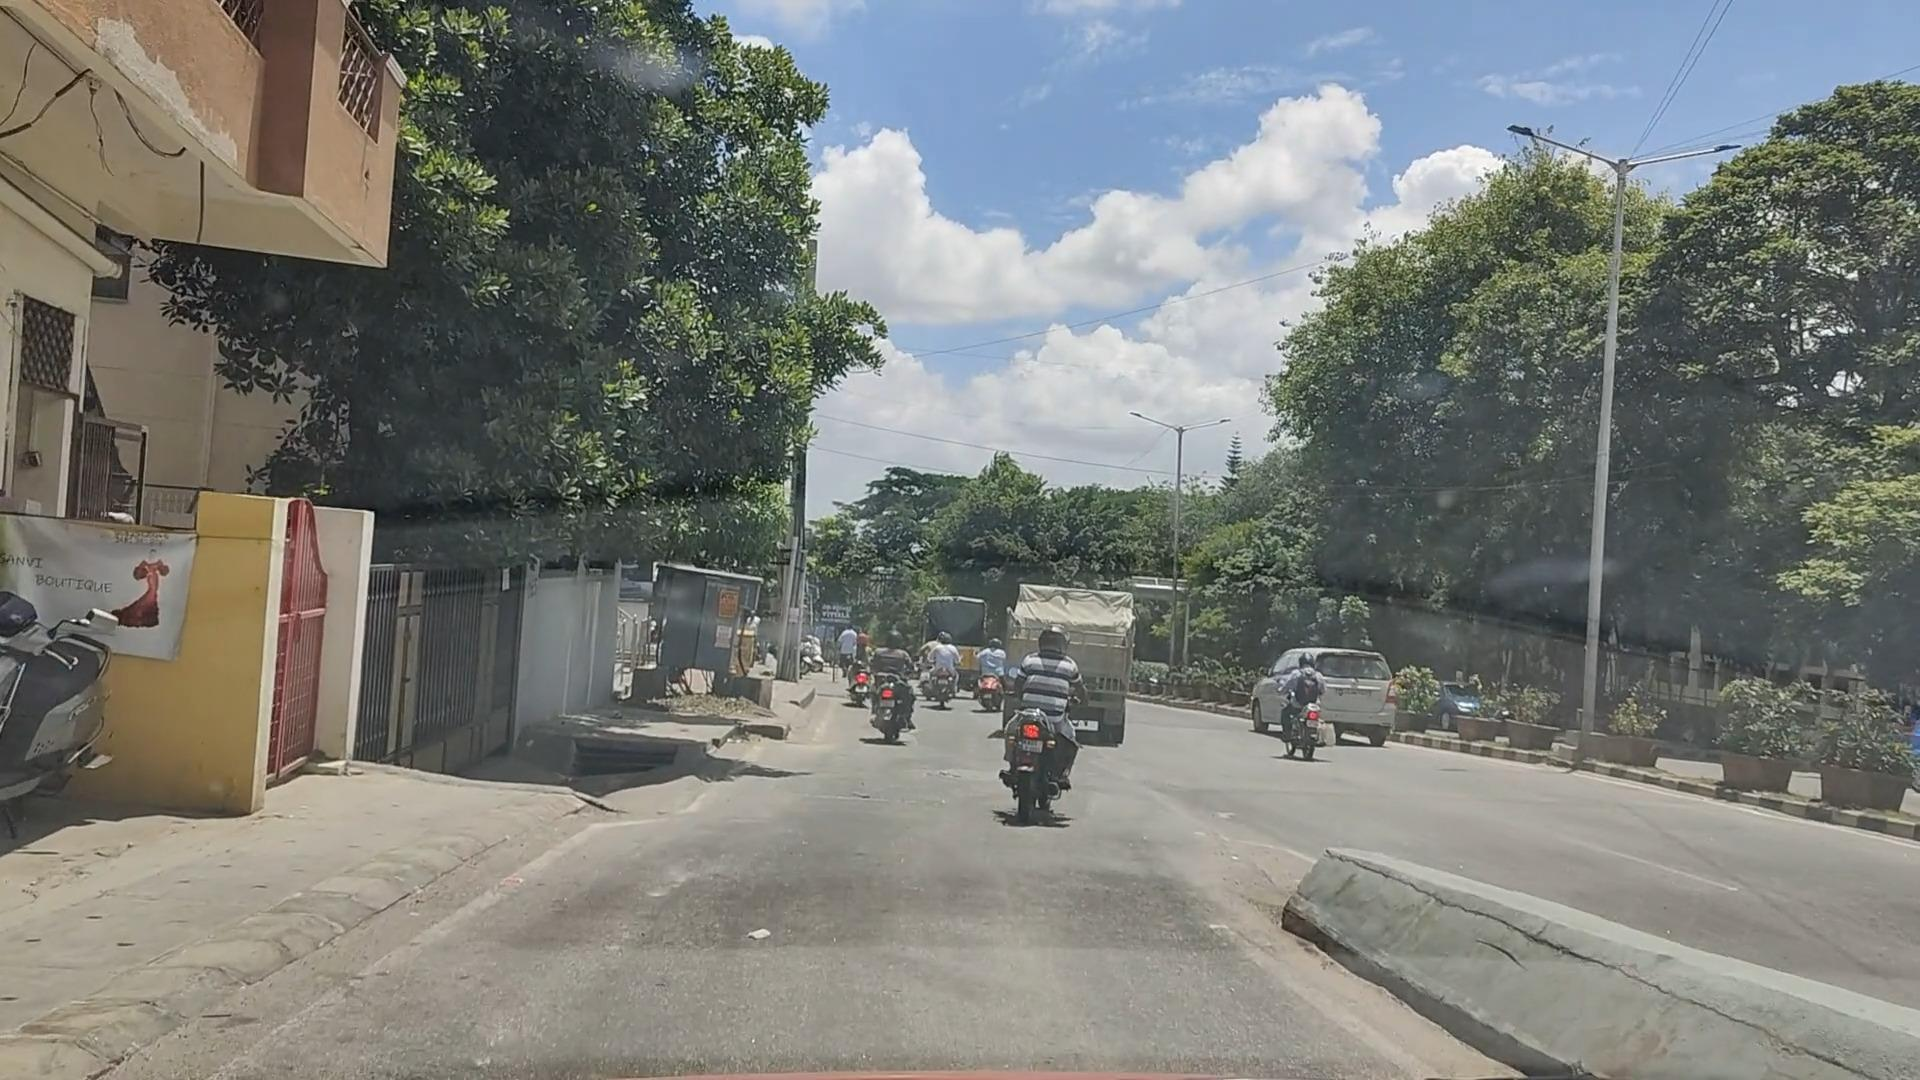HMV: (986, 574, 1151, 748)
